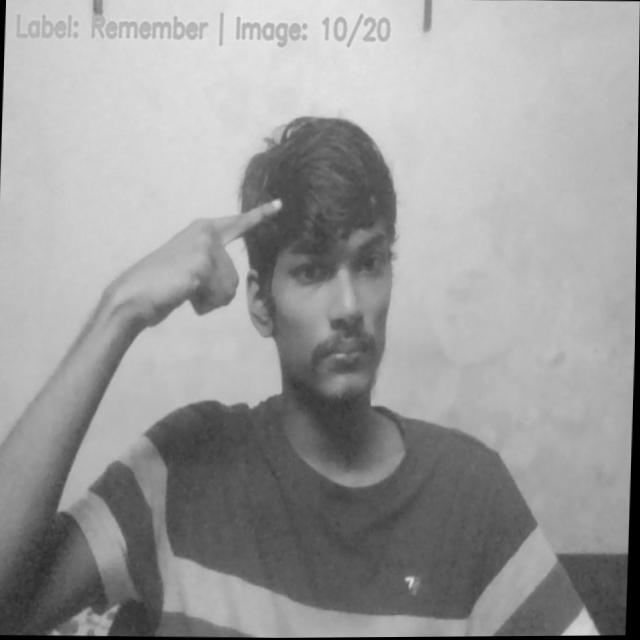Remember: (119, 186, 285, 341)
